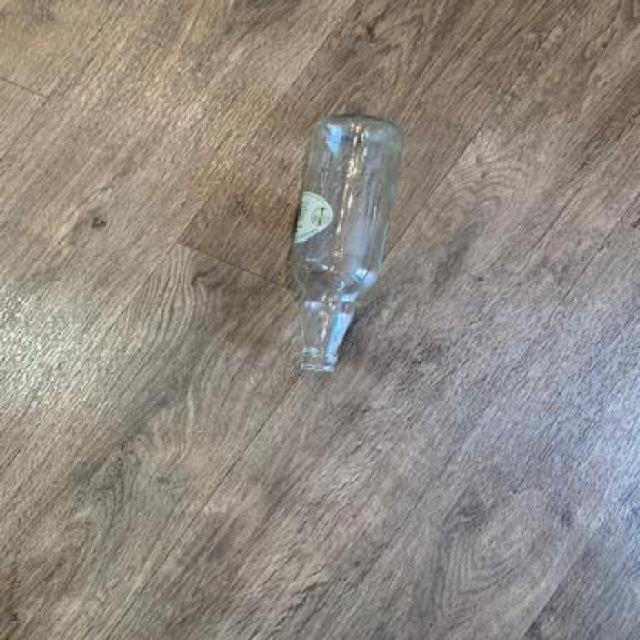trash: (295, 113, 402, 375)
